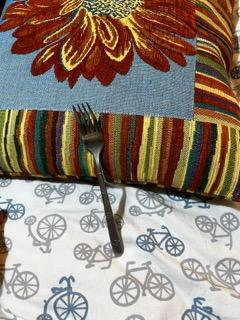fork: (71, 101, 126, 259)
